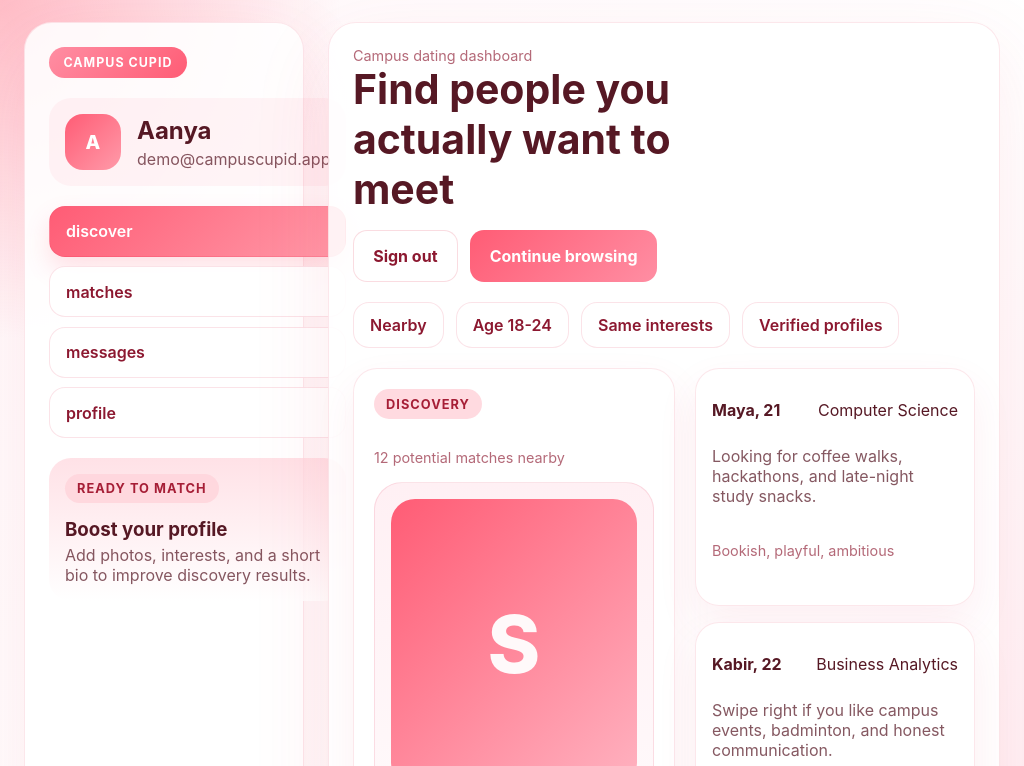
renders the profile and settings screen from the dashboard
The width and height of the screenshot is (1024, 766).
Click the button "profile". click: (91, 413)
box: x1=49 y1=387 x2=346 y2=438
(page scrolled)
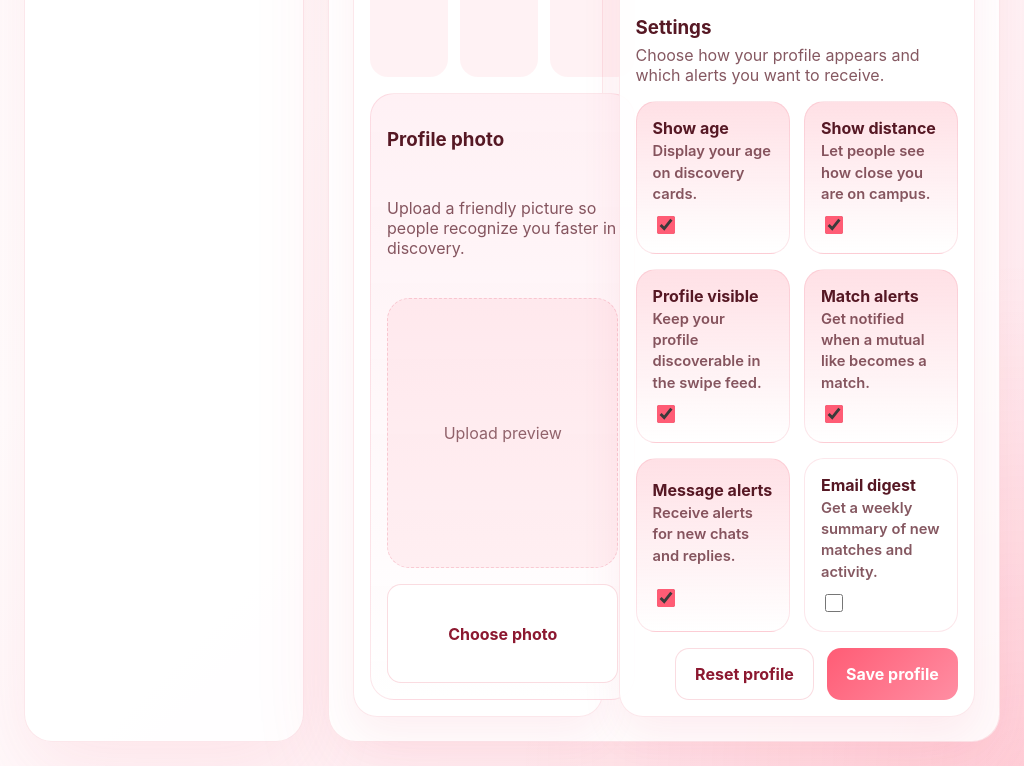
Expected: the heading "Settings" is shown, x1=636 y1=16 x2=711 y2=40
Expected: the label named "upload profile photo" is shown, x1=387 y1=584 x2=618 y2=683
